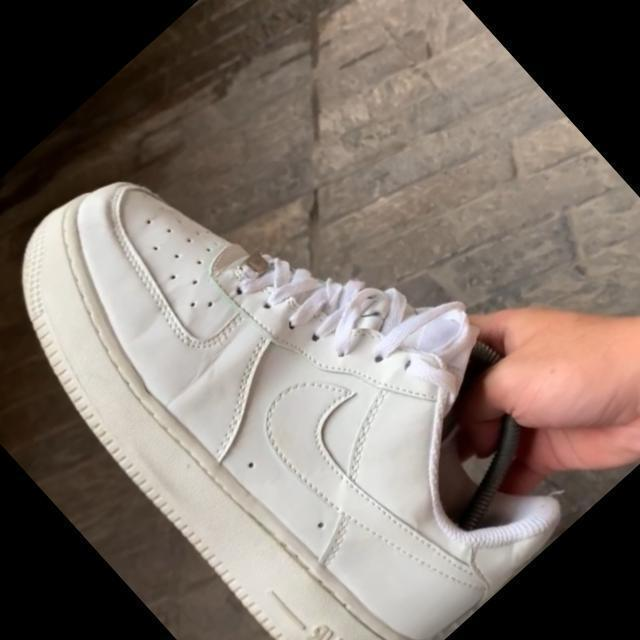nike fake air force: (0, 39, 628, 640)
